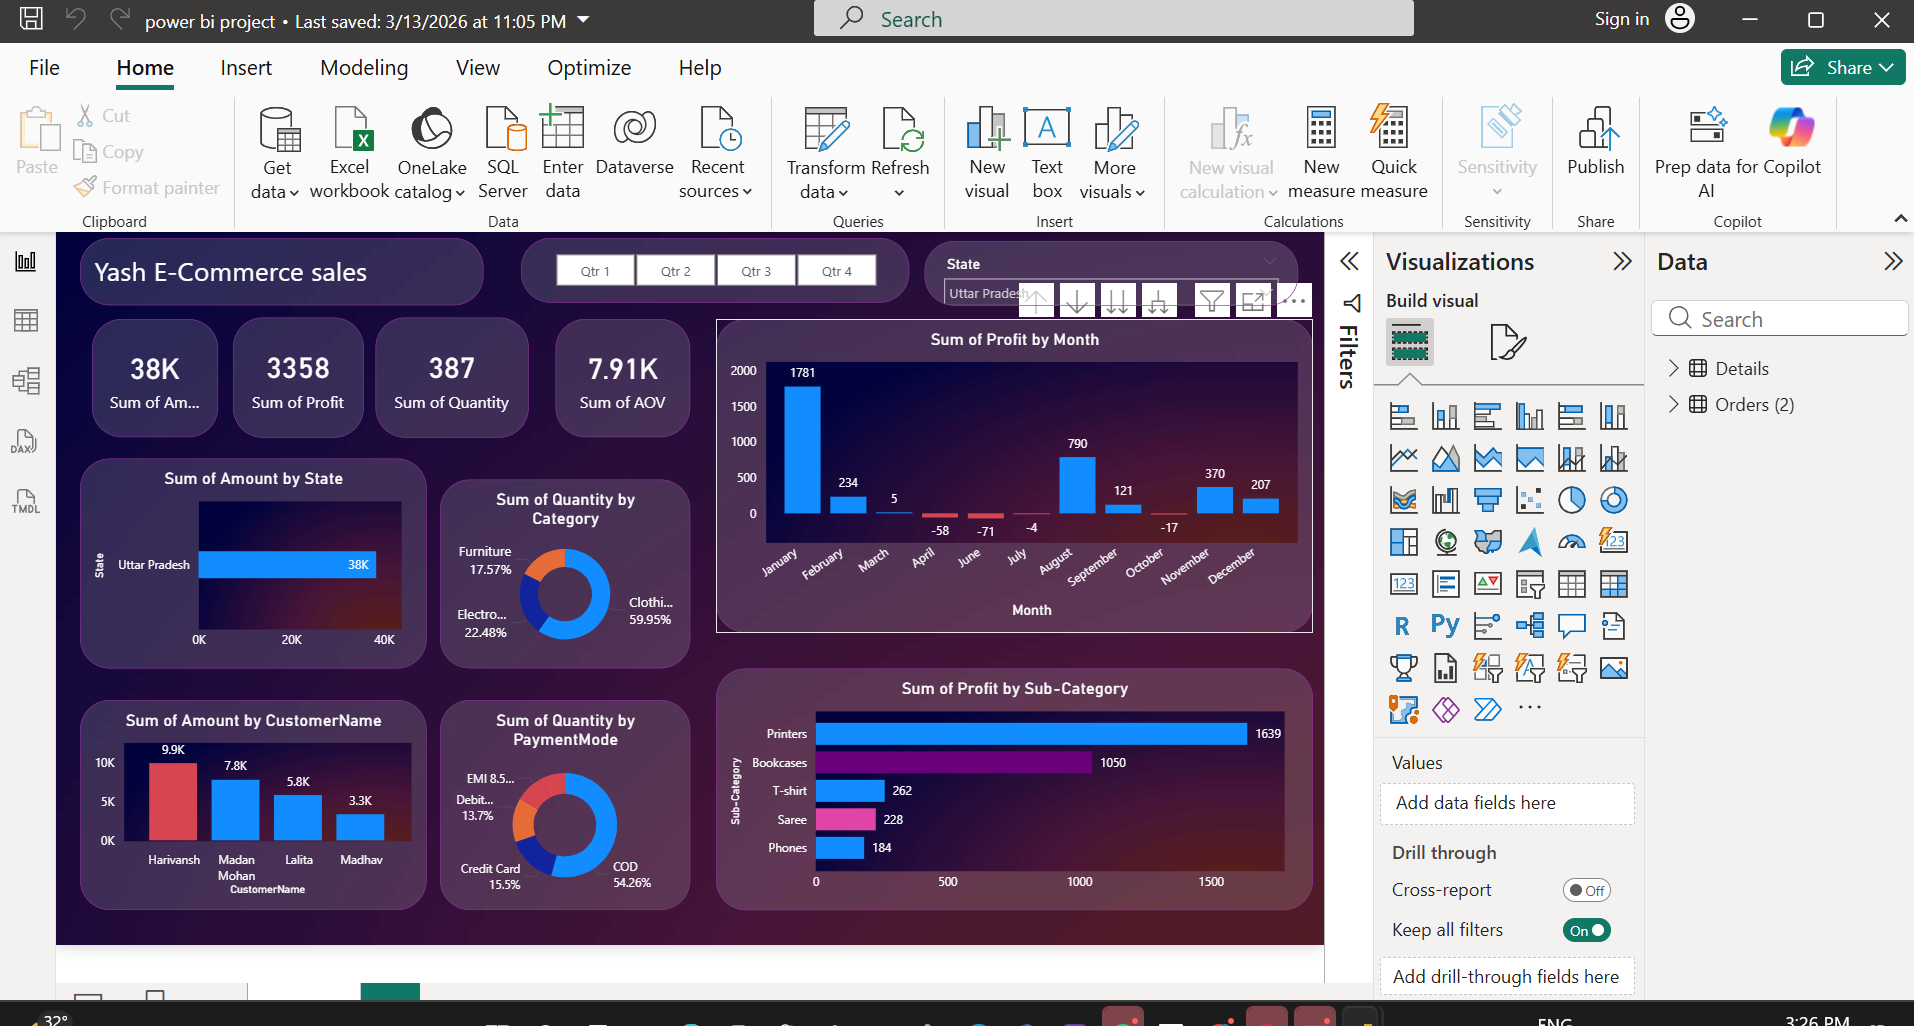

This screenshot's page, from the dashboard's own definition file:
{"tool":"powerbi","page":{"name":"Page 1","canvas":[1280,720],"ordinal":0},"visuals":[{"type":"textbox","box":[24.2,6.1,407.3,68.1],"z":0},{"type":"columnChart","fields":{"Category":["Orders (2).Order Date.Variation.Date Hierarchy.Month","Orders (2).Order Date.Variation.Date Hierarchy.Day"],"Y":["Sum(Details.Profit)"]},"box":[666.3,87.8,602.7,316.5],"z":1000},{"type":"barChart","fields":{"Category":["Details.Sub-Category"],"Y":["Sum(Details.Profit)"]},"box":[666.3,440.6,602.7,243.8],"z":2000},{"type":"donutChart","fields":{"Y":["Sum(Details.Quantity)"],"Category":["Details.Category"]},"box":[387.6,249.8,252.9,190.8],"z":3000},{"type":"donutChart","fields":{"Y":["Sum(Details.Quantity)"],"Category":["Details.PaymentMode"]},"box":[387.6,472.4,252.9,212],"z":4000},{"type":"card","fields":{"Values":["Sum(Details.Amount)"]},"box":[36.3,87.8,127.2,119.6],"z":5000},{"type":"card","fields":{"Values":["Sum(Details.Profit)"]},"box":[178.7,86.3,131.7,121.1],"z":6000},{"type":"card","fields":{"Values":["Sum(Details.Quantity)"]},"box":[322.5,86.3,154.4,121.1],"z":7000},{"type":"card","fields":{"Values":["Sum(Details.AOV)"]},"box":[504.2,87.8,136.3,119.6],"z":8000},{"type":"clusteredBarChart","fields":{"Category":["Orders (2).State"],"Y":["Sum(Details.Amount)"]},"box":[24.2,228.6,349.8,212],"z":9000},{"type":"columnChart","fields":{"Category":["Orders (2).CustomerName"],"Y":["Sum(Details.Amount)"]},"box":[24.2,472.4,349.8,212],"z":10000},{"type":"slicer","fields":{"Values":["Orders (2).Order Date.Variation.Date Hierarchy.Quarter"]},"box":[469.4,6.1,392.2,65.1],"z":11000},{"type":"slicer","fields":{"Values":["Orders (2).State"]},"box":[876.7,9.1,377,65.1],"z":12000}]}

Visuals, with their boxes on the page's 1280x720 design canvas (x1, y1, x2, y2). These are canvas units, not pixel positions in the 1914x1026 screenshot, which may show the page scaled, cropped or inside an application window:
textbox: (24,6,432,74)
columnChart - Orders (2).Order Date.Variation.Date Hierarchy.Month x Orders (2).Order Date.Variation.Date Hierarchy.Day: (666,88,1269,404)
barChart - Details.Sub-Category x Sum(Details.Profit): (666,441,1269,684)
donutChart - Sum(Details.Quantity) x Details.Category: (388,250,640,441)
donutChart - Sum(Details.Quantity) x Details.PaymentMode: (388,472,640,684)
card - Sum(Details.Amount): (36,88,164,207)
card - Sum(Details.Profit): (179,86,310,207)
card - Sum(Details.Quantity): (322,86,477,207)
card - Sum(Details.AOV): (504,88,640,207)
clusteredBarChart - Orders (2).State x Sum(Details.Amount): (24,229,374,441)
columnChart - Orders (2).CustomerName x Sum(Details.Amount): (24,472,374,684)
slicer - Orders (2).Order Date.Variation.Date Hierarchy.Quarter: (469,6,862,71)
slicer - Orders (2).State: (877,9,1254,74)
